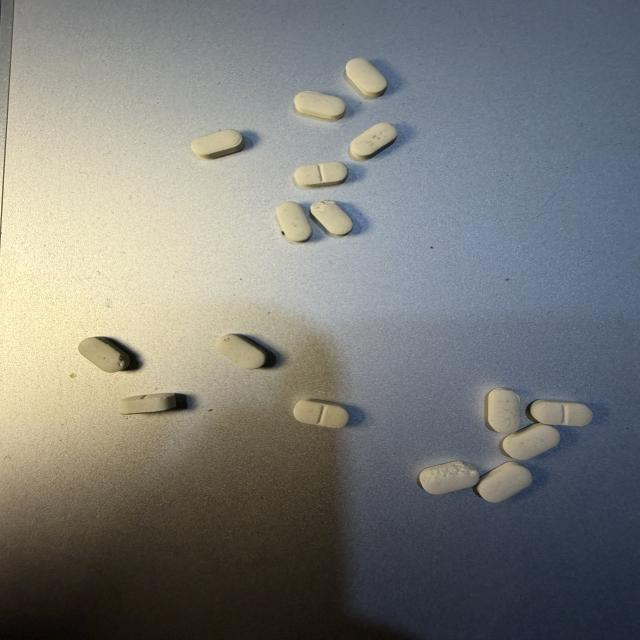pill: (476, 462, 532, 502), (502, 424, 560, 459), (420, 461, 479, 494), (349, 123, 397, 161), (216, 334, 267, 369), (79, 337, 130, 372), (344, 58, 387, 99), (530, 400, 592, 426), (294, 400, 349, 428), (294, 91, 345, 121), (311, 201, 353, 237), (487, 388, 520, 433), (191, 130, 244, 158), (276, 202, 312, 243), (294, 162, 348, 188), (119, 393, 176, 414)
